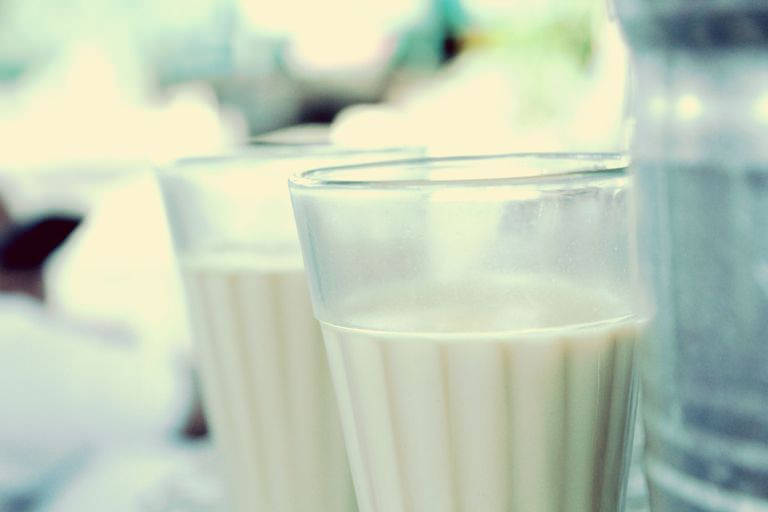glass of milk: (297, 160, 680, 512), (159, 165, 384, 488)
